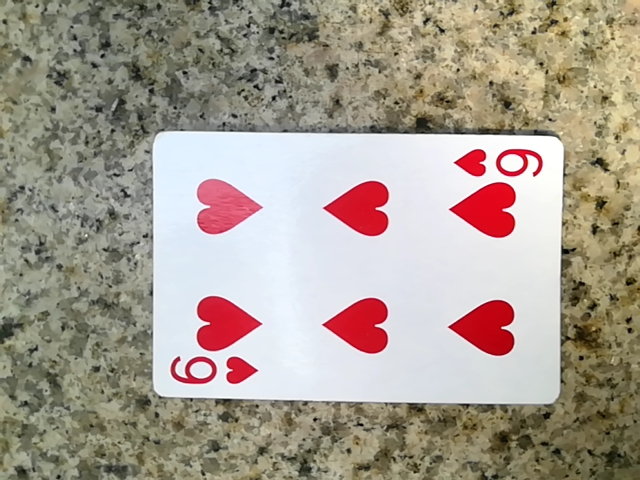hx 6: (147, 123, 560, 401)
